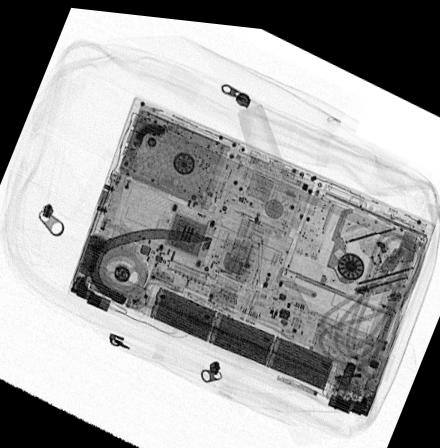Bullet: (333, 345, 360, 404)
